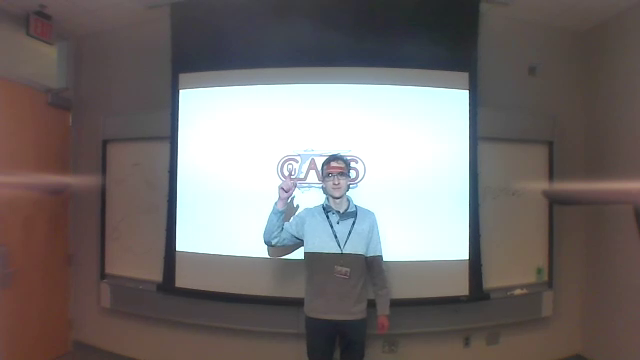up: (276, 167, 302, 198)
